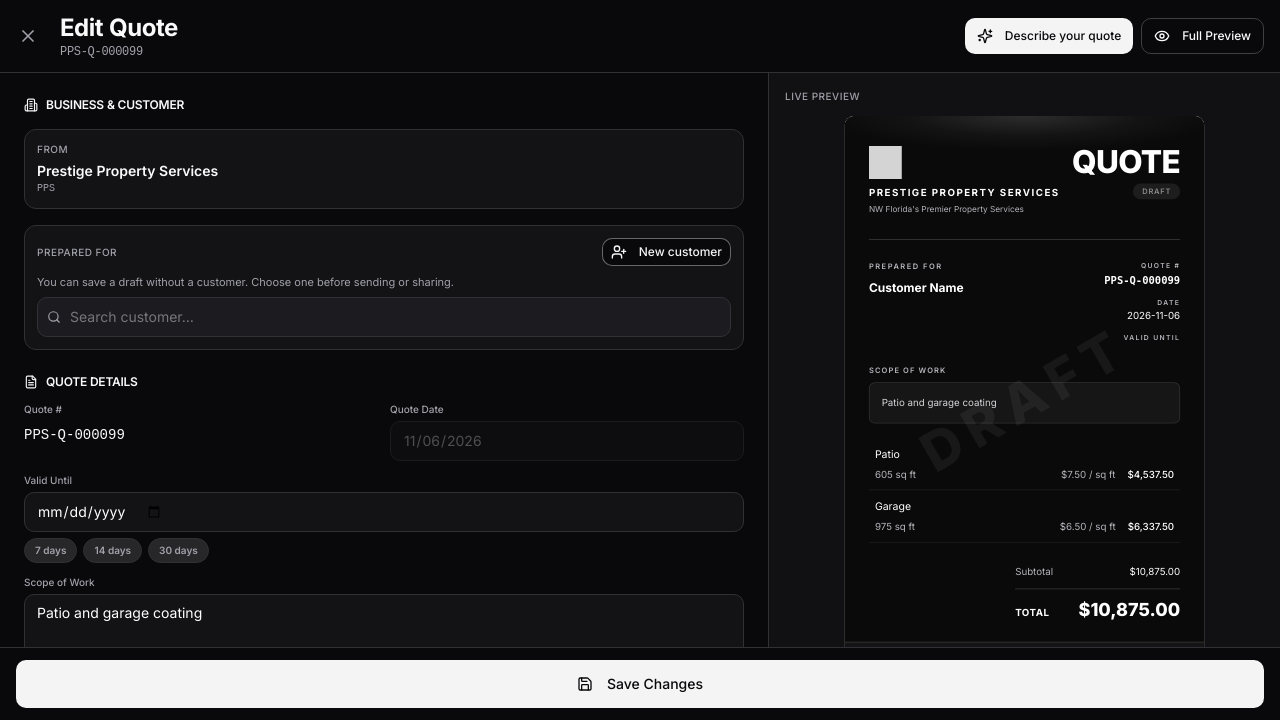
Test case: Unassigned draft customer selection › shows customer resolution failures persistently without creating a replacement customer or losing scope
Focus the field with placeholder "Search customer…" at {"x": 384, "y": 316}, box [37, 296, 731, 336]
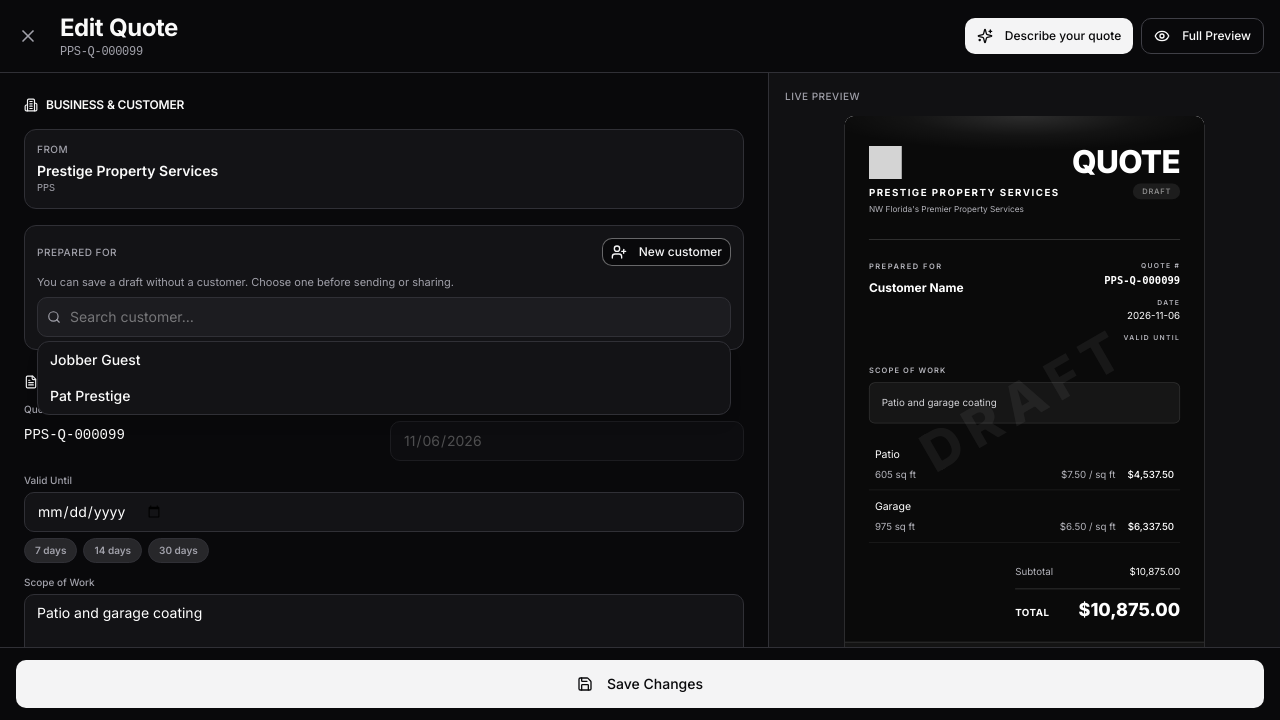
Now the text "Jobber Guest" is shown, box [50, 350, 141, 368]
Click the button "Jobber Guest" at {"x": 95, "y": 359}, box [38, 342, 730, 378]
(page scrolled)
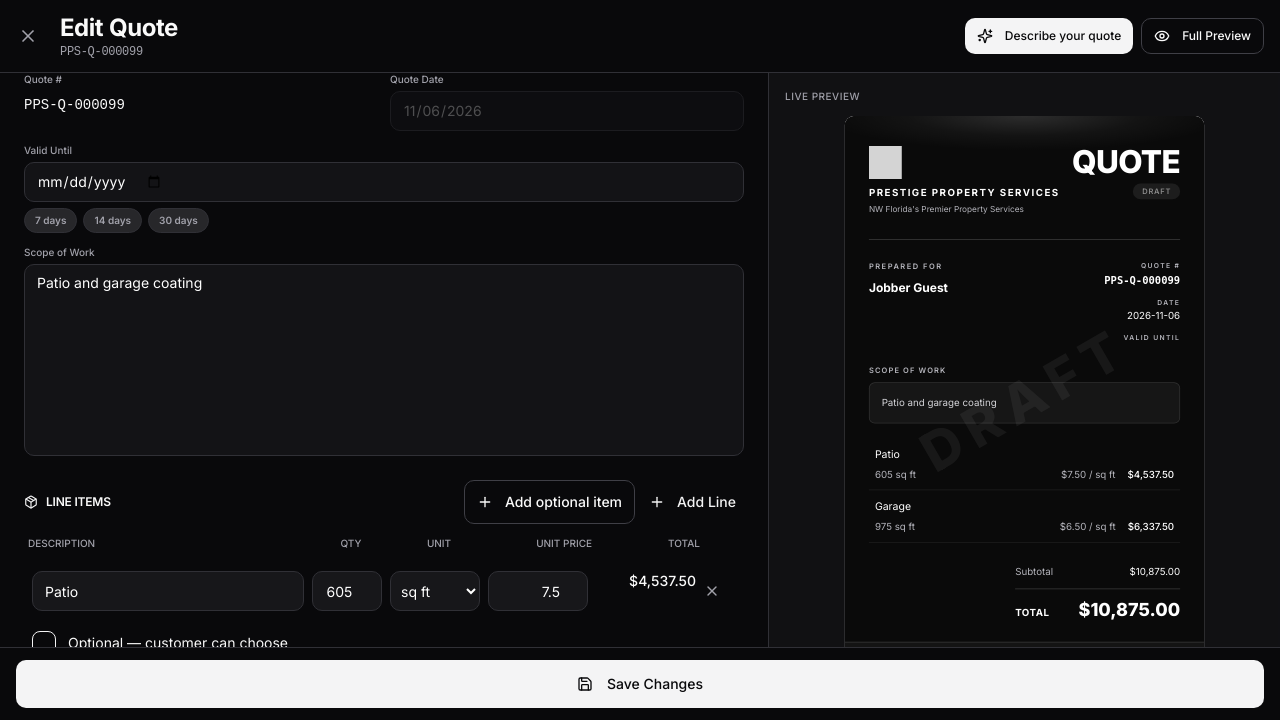
Replace the text in the text box labelled "Scope of Work" with "Keep this scope" at {"x": 384, "y": 360}, box [24, 264, 744, 456]
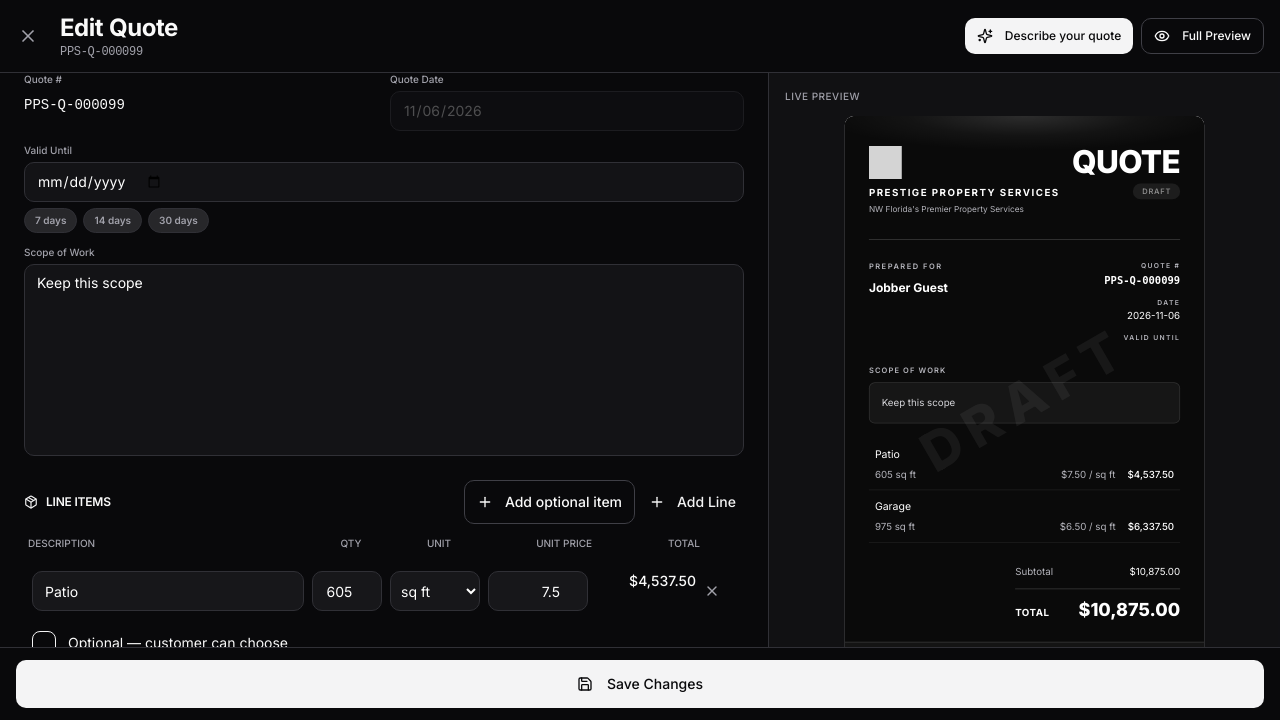
Click the button "Save Changes" at {"x": 640, "y": 684}, box [16, 660, 1264, 708]
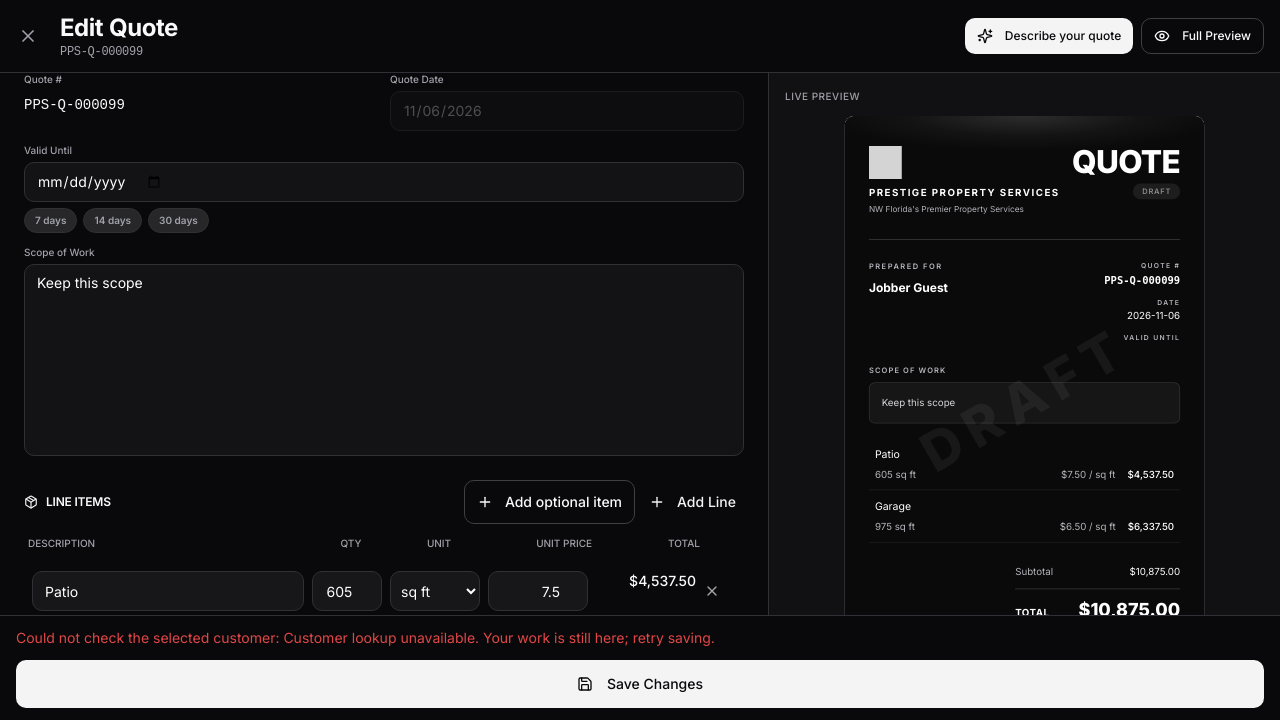
Now the message shows "Customer lookup unavailable", box [16, 629, 715, 646]
